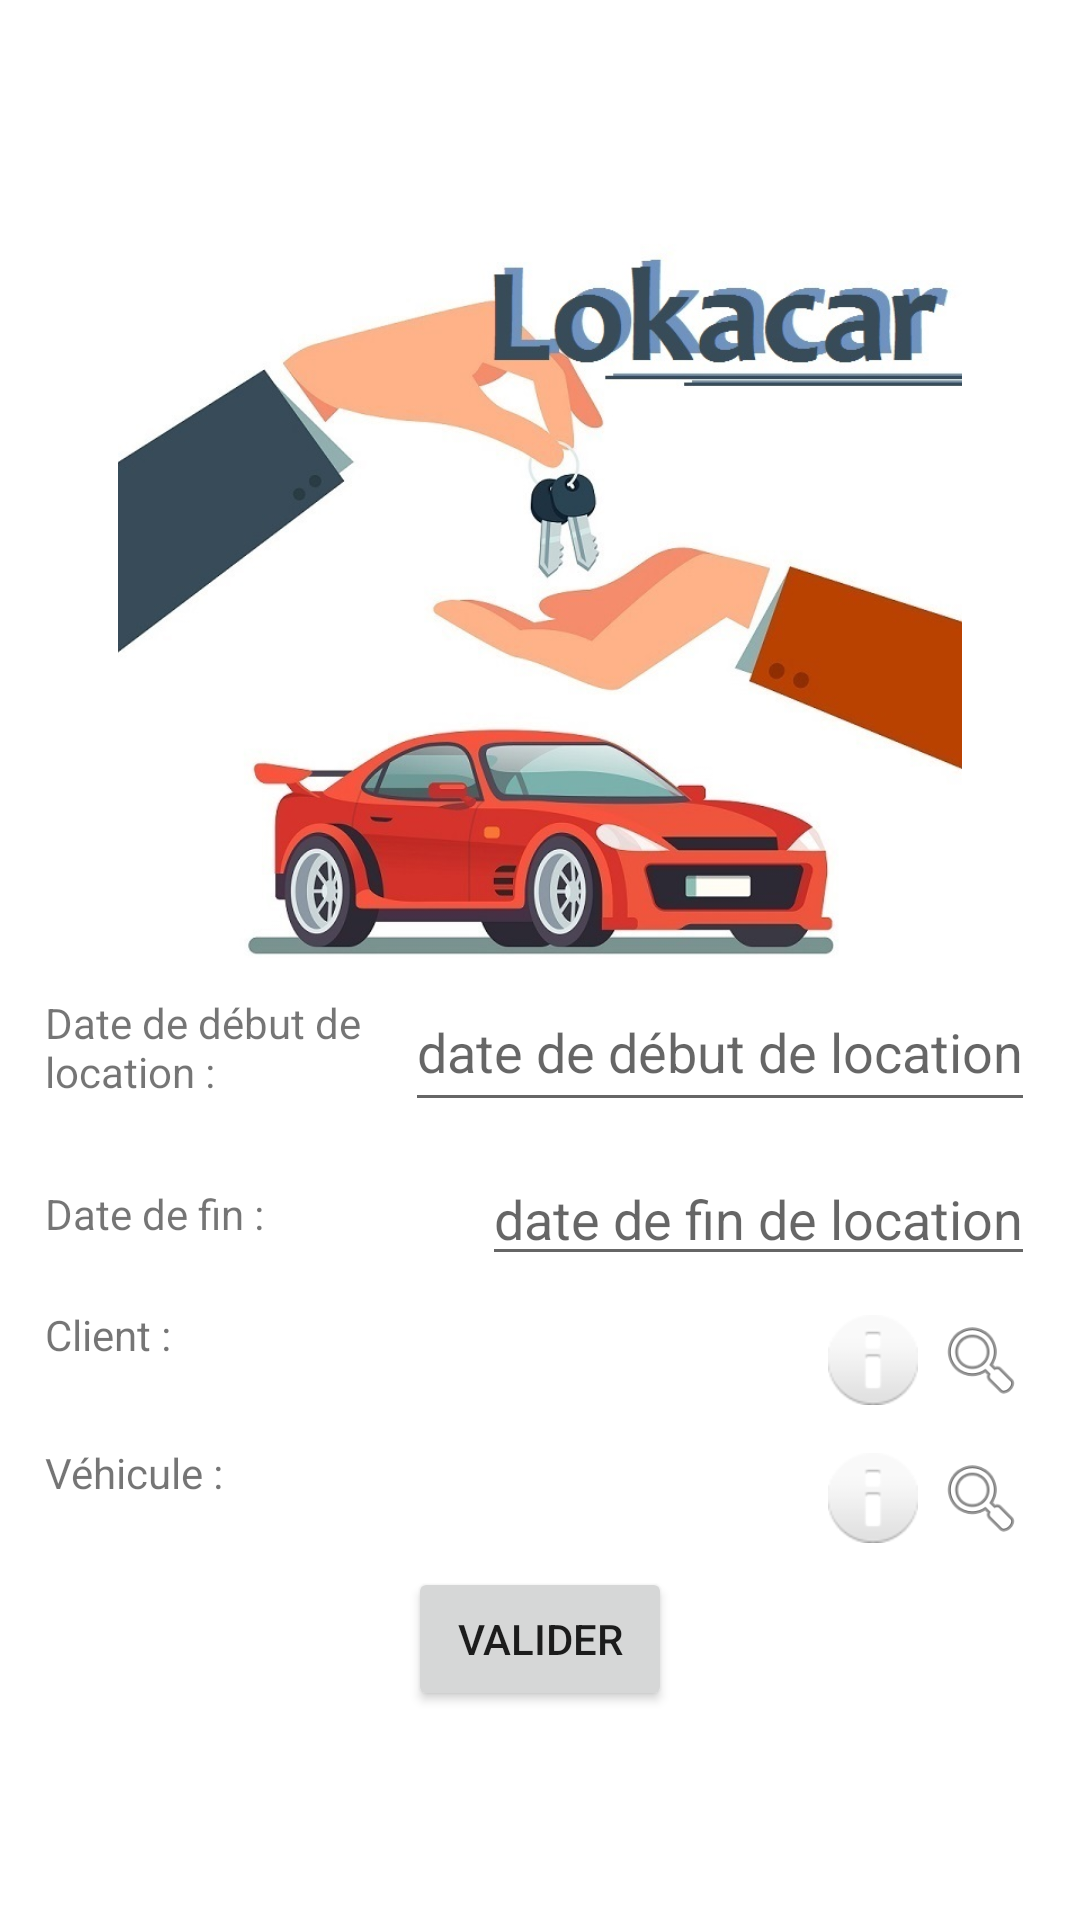

Where to tap for icons on this 1080x1920 app screen, as (x,y):
info: (873,1368), (873,1506)
search: (981,1360), (981,1498)
